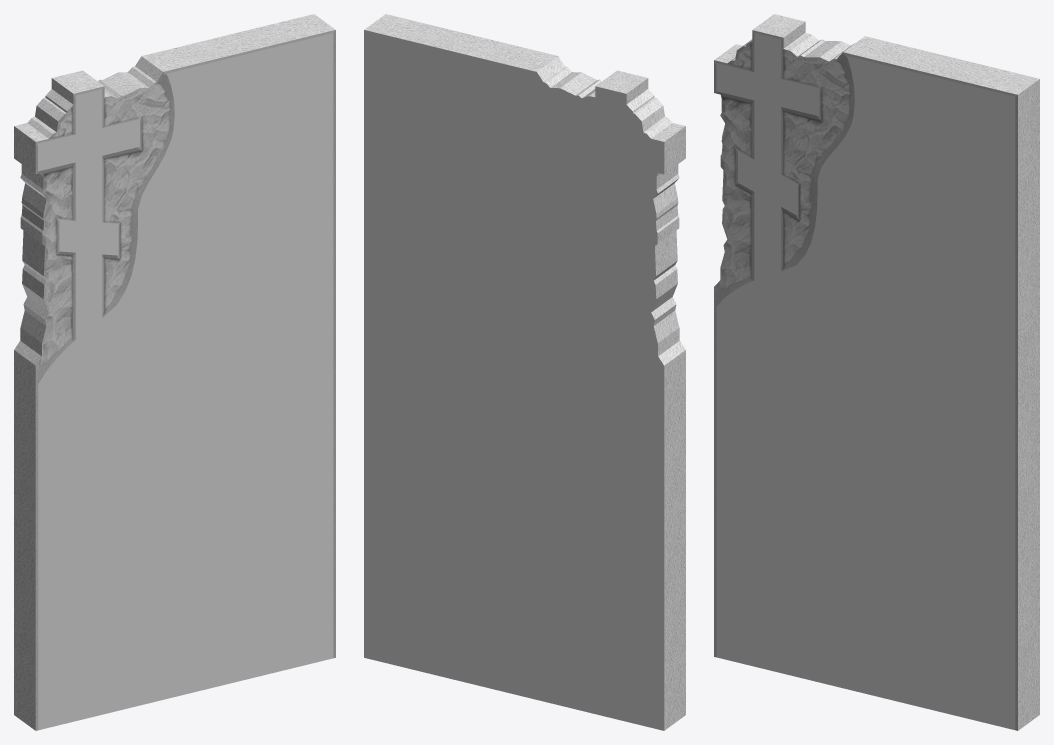
Rendered from cnf691139b49_tkf.glb.
3 renders of one model, left to right at view 1: azimuth 30°, elevation 25°; view 2: azimuth 150°, elevation 25°; view 3: azimuth 330°, elevation 25°, orthographic.
Visible parts, largest first — view 1: Pam-d03-182, Pam-d03-182_2_notexture; view 2: Pam-d03-182, Pam-d03-182_2_notexture; view 3: Pam-d03-182, Pam-d03-182_2_notexture.
Boxes of the visible parts, x1,y1,x2,y2 form: Pam-d03-182: (38,33,333,730); Pam-d03-182_2_notexture: (14,14,335,730); Pam-d03-182: (364,30,664,730); Pam-d03-182_2_notexture: (364,14,685,730); Pam-d03-182: (716,33,1015,729); Pam-d03-182_2_notexture: (714,14,1039,730).
Bounding box in the file's own units: 0.4 × 0.8 × 0.05.
Materials: 1 (1 with a texture image).
